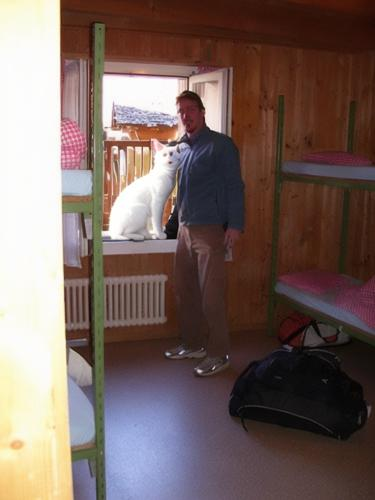bottle: (128, 146, 145, 188)
cat: (104, 141, 178, 238)
person: (128, 92, 247, 380)
person/foot: (194, 356, 230, 377), (164, 345, 207, 359)
person/hand: (222, 229, 242, 248), (128, 176, 145, 191)
person/head: (176, 92, 206, 131)
